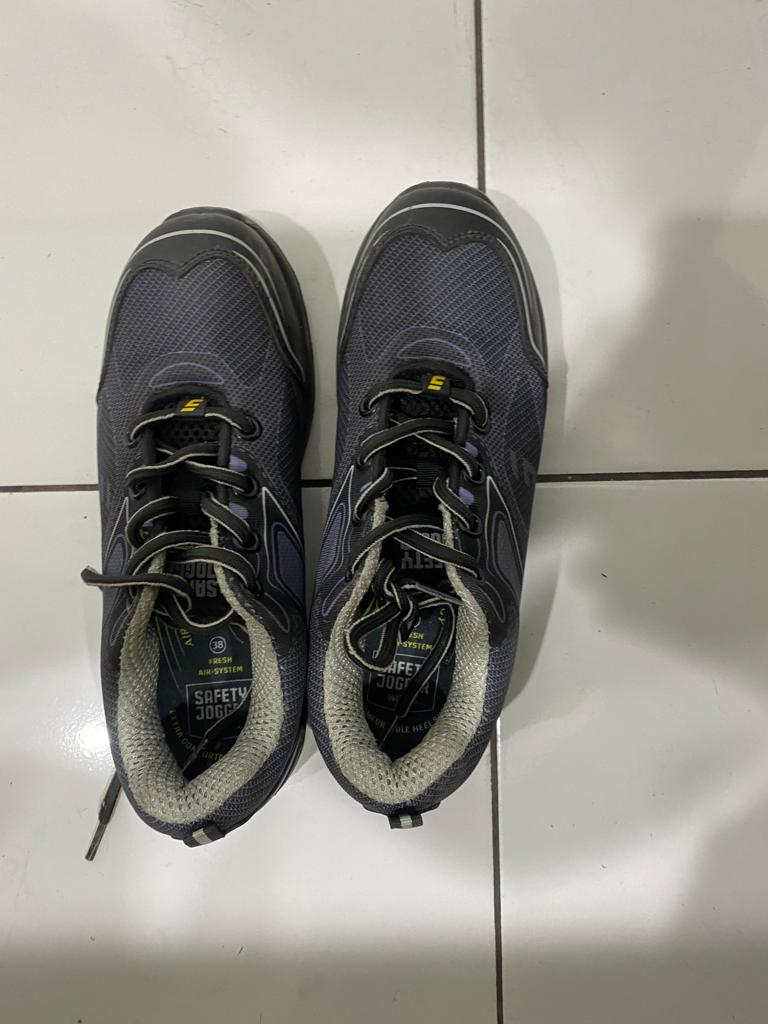SEPATU: (97, 212, 521, 822)
